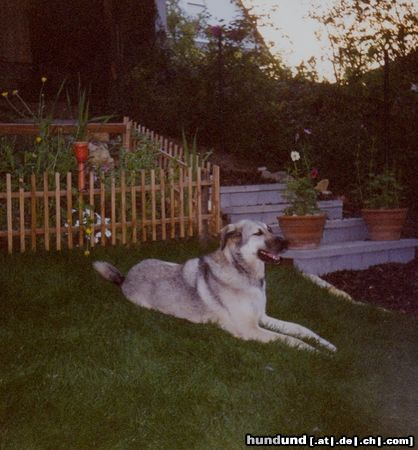kangal: (90, 219, 336, 355)
